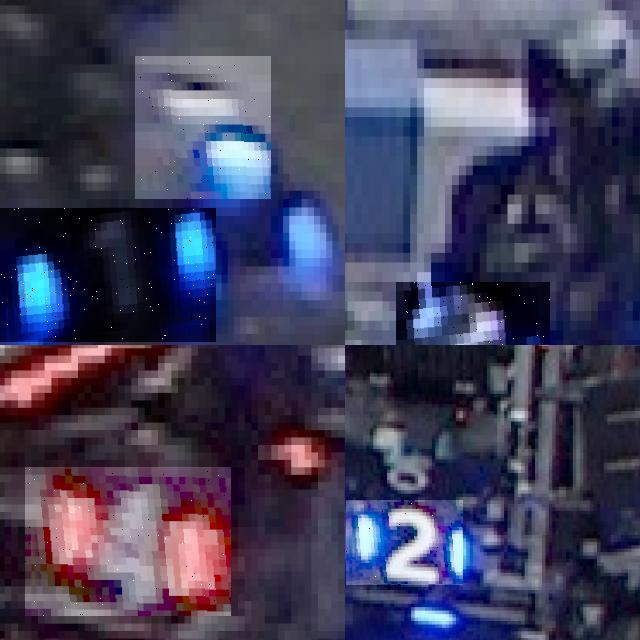B1: (0, 208, 216, 342), (135, 56, 271, 199), (396, 281, 549, 345)
B2: (346, 501, 463, 586)
R4: (25, 467, 231, 616)
